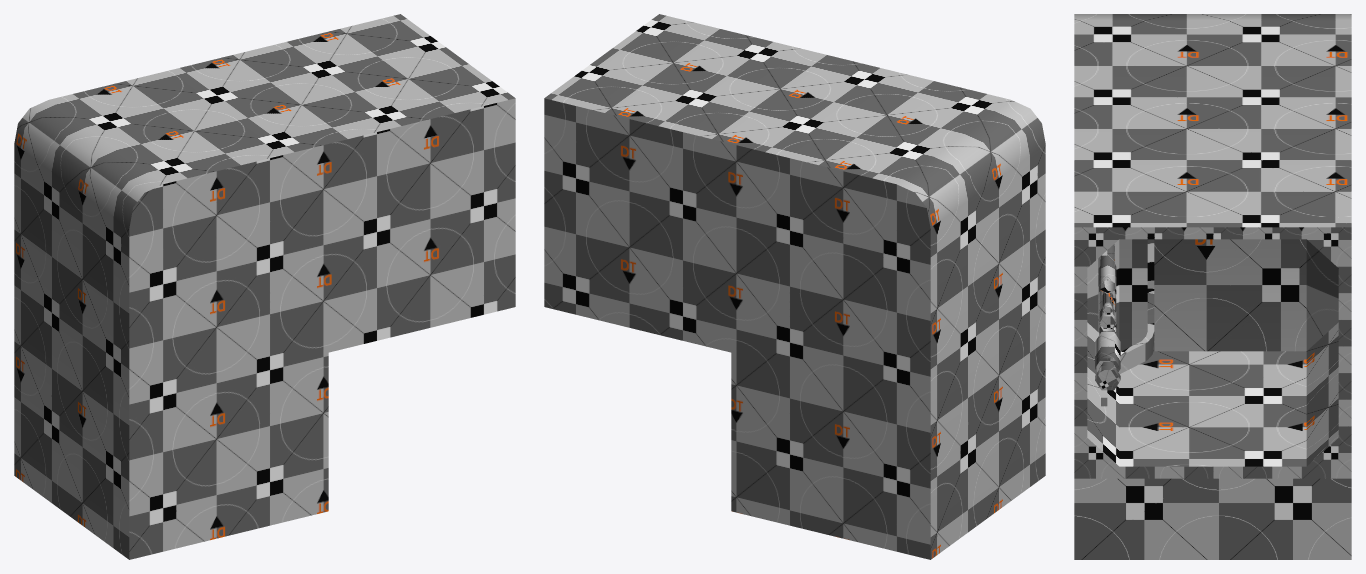
Rendered from Vent_Vertical_G.FBX.
3 views of the same model, side by side, from view 1: azimuth 30°, elevation 25°; view 2: azimuth 150°, elevation 25°; view 3: azimuth 270°, elevation 25° (orthographic). The views are drawn at different scales.
Visible parts, largest first — view 1: Object35989; view 2: Object35989; view 3: Object35989.
Boxes of the visible parts, x1,y1,x2,y2 form: Object35989: (14, 14, 515, 559); Object35989: (544, 14, 1045, 559); Object35989: (1074, 14, 1351, 559).
Bounding box in the file's own units: 82.35 × 74.82 × 42.5.
Materials: 1 (1 with a texture image).
